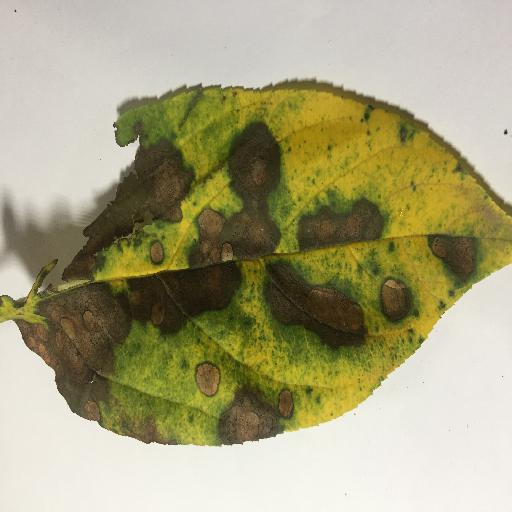Brown_Spot: (55, 155, 189, 280), (25, 297, 120, 412), (271, 271, 364, 344), (228, 129, 279, 259), (124, 277, 226, 322), (298, 204, 382, 243), (431, 235, 483, 275), (192, 209, 227, 258), (222, 404, 271, 433), (386, 279, 417, 323), (200, 361, 219, 395), (277, 389, 292, 418)
